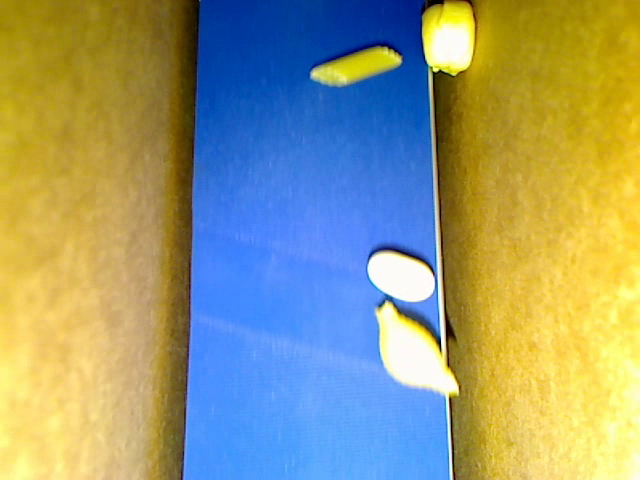penne: (308, 45, 402, 86)
shell: (373, 299, 460, 396)
